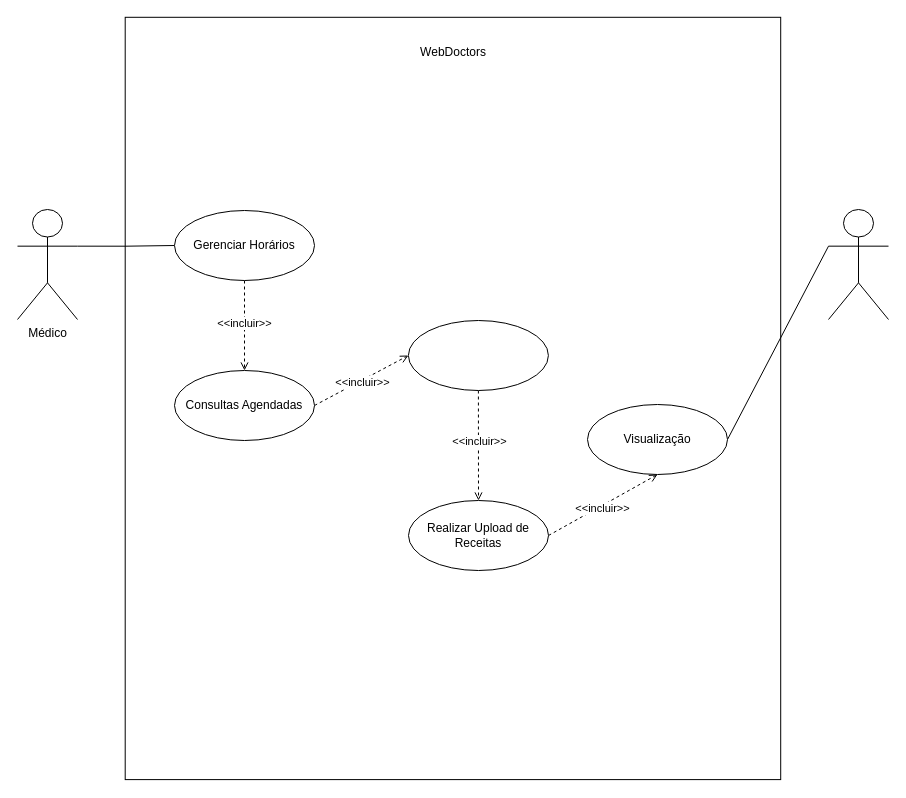
Some shapes in this 906 by 798 pixel diagram are drawn without their labels. Each missing label, with the centre of its shape:
"Consulta" goes at pixel 477 355.
"Sistema" goes at pixel 858 264.
